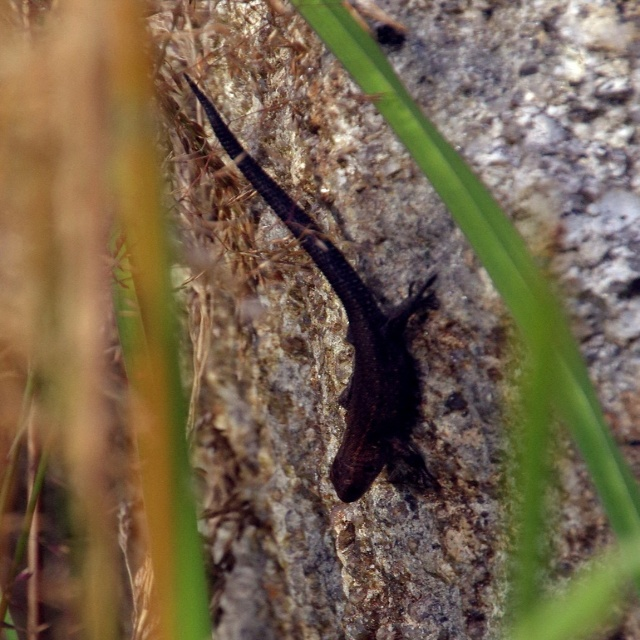Lizard: (202, 68, 450, 533)
